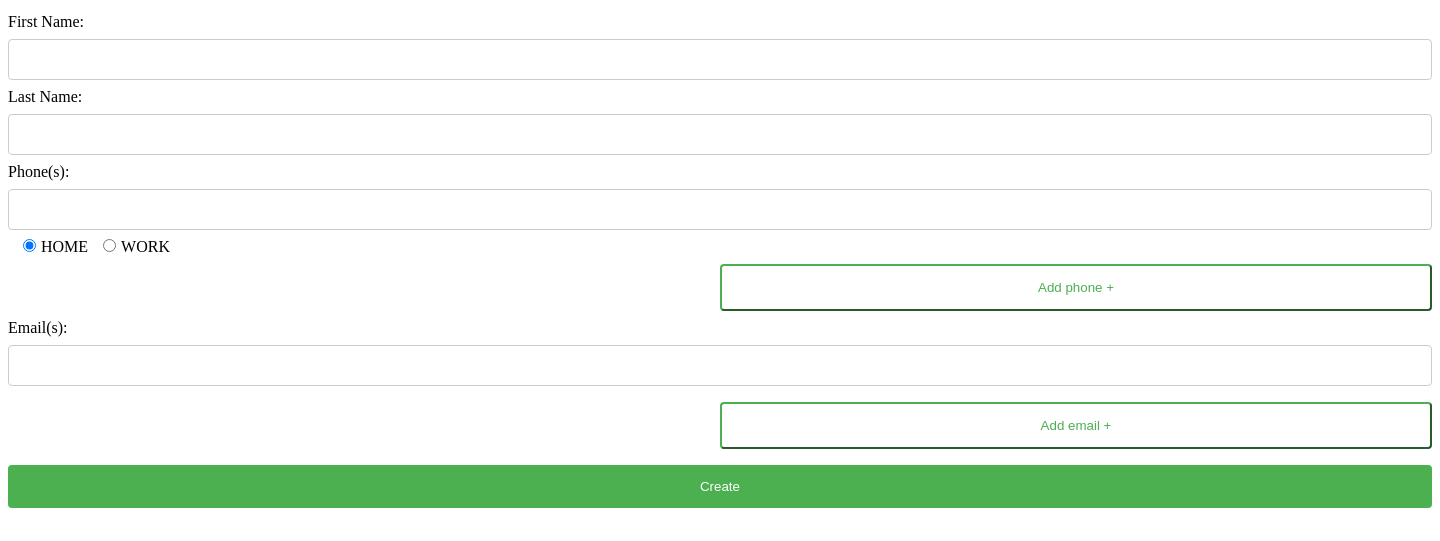
FormVCard › displays error message for invalid form data
The width and height of the screenshot is (1440, 541).
// Click the submit button without entering any data
Click the button "Create": (720, 486) [8,465,1432,508]
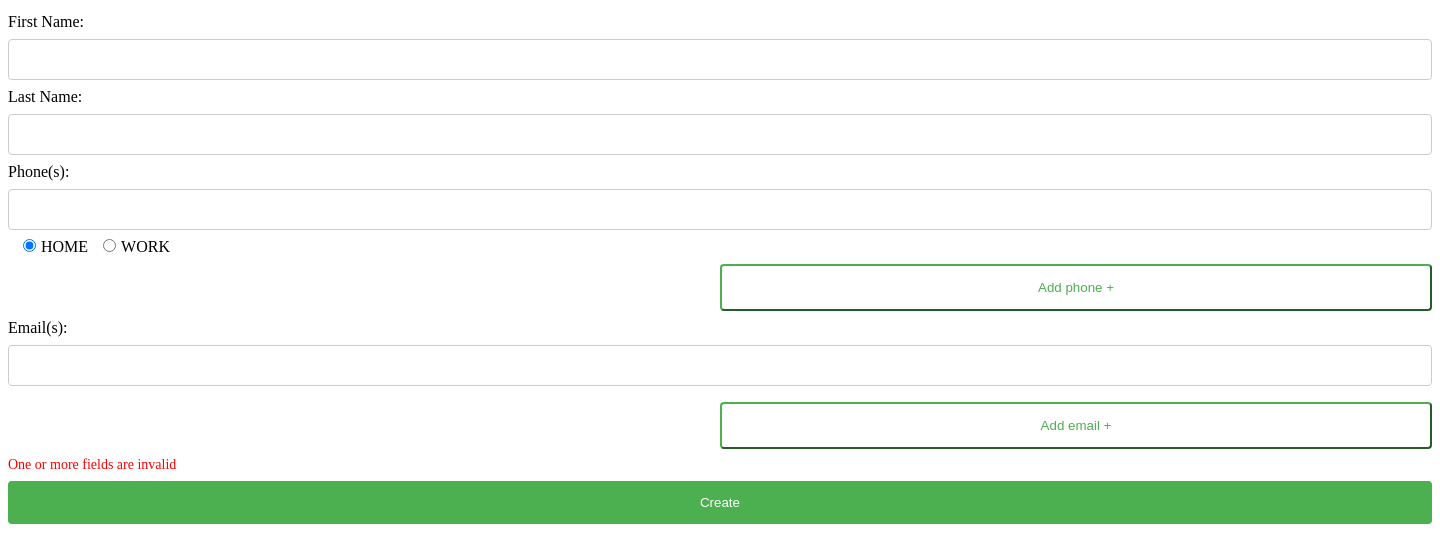
Expected: the text "One or more fields are invalid" is shown, [8,457,176,472]
